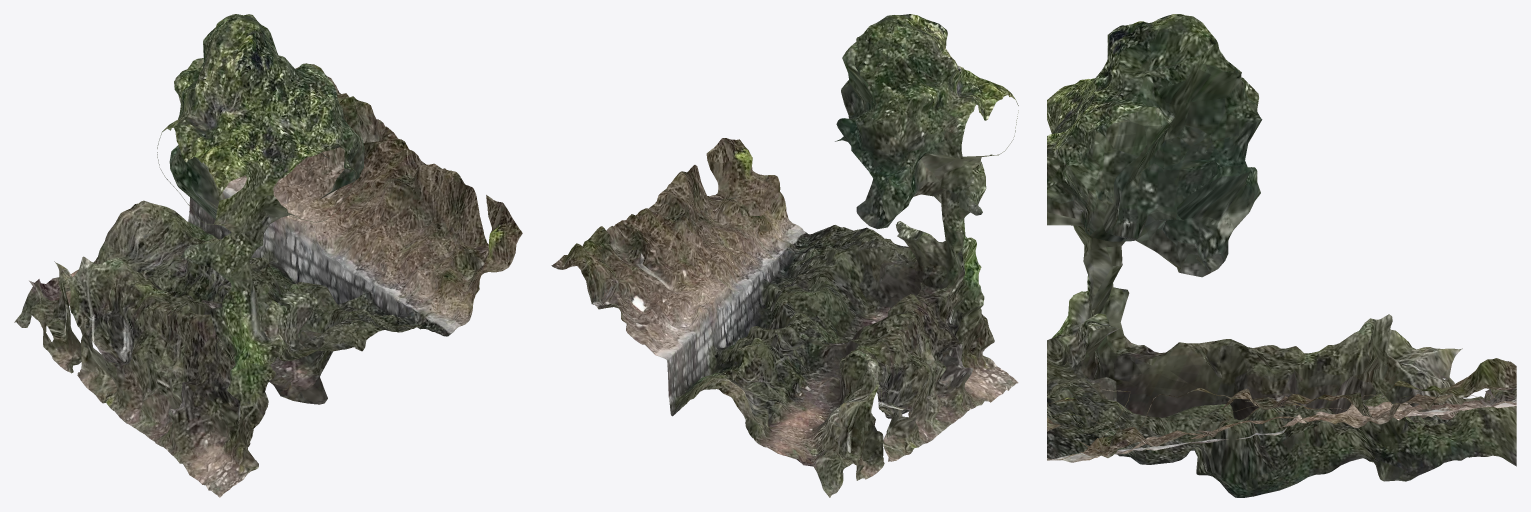
The model's file is BlockYXYB_L21_8.glb.
3 views of the same model, side by side, from view 1: azimuth 30°, elevation 25°; view 2: azimuth 150°, elevation 25°; view 3: azimuth 270°, elevation 25° (orthographic). The views are drawn at different scales.
Parts seen in each view (by area): view 1: rtc; view 2: rtc; view 3: rtc.
Part boxes in pixels (x1=…): rtc: x1=14, y1=14, x2=522, y2=497; rtc: x1=551, y1=14, x2=1018, y2=497; rtc: x1=1047, y1=14, x2=1516, y2=497.
Bounding box in the file's own units: 7.44 × 9.84 × 8.72.
5 materials, 5 textured.
